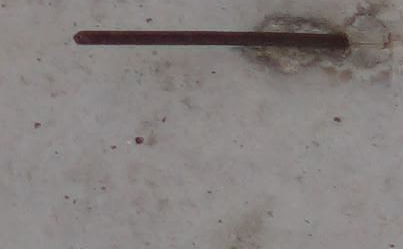Exposed reinforcement: (72, 30, 349, 50)
Spalling: (257, 11, 392, 69)
